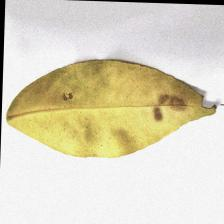black spot: (62, 84, 222, 127)
